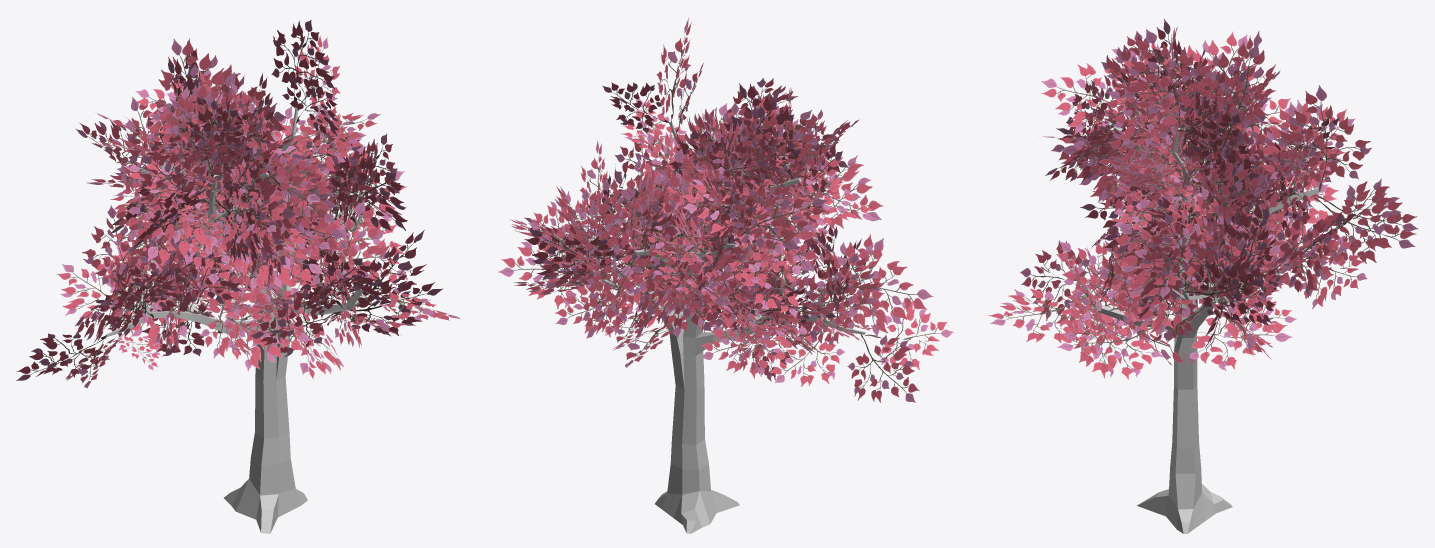
Rendered from samlet_blanked_tr2 1.fbx.
3 renders of one model, left to right at view 1: azimuth 30°, elevation 25°; view 2: azimuth 150°, elevation 25°; view 3: azimuth 270°, elevation 25°, orthographic. The views are drawn at different scales.
Visible parts, largest first — view 1: træ base; view 2: træ base; view 3: træ base.
Part boxes in pixels (x1,y1,x2,y2): træ base: (16,20,460,533); træ base: (498,17,953,533); træ base: (988,19,1418,533).
Bounding box in the file's own units: 1106 × 1306 × 1020.
